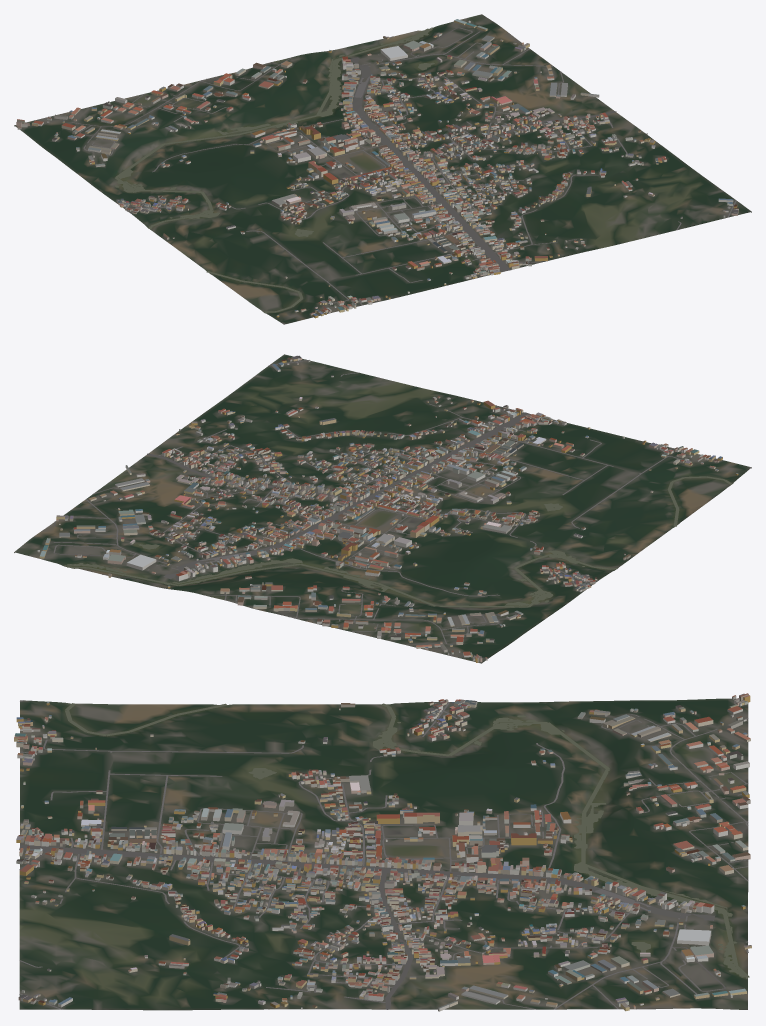
The picture shows the model from 3 angles, top to bottom: view 1: azimuth 30°, elevation 25°; view 2: azimuth 150°, elevation 25°; view 3: azimuth 270°, elevation 25°; orthographic projection. The views are drawn at different scales.
Parts seen in each view (by area): view 1: ground, buildings, roads, water; view 2: ground, buildings, roads, water; view 3: ground, buildings, roads, water.
Boxes of the visible parts, x1,y1,x2,y2 form: ground: (14,14,751,324); buildings: (16,19,738,318); roads: (44,27,736,324); water: (115,27,434,312); ground: (14,354,751,663); buildings: (37,355,738,662); roads: (53,360,750,656); water: (64,476,732,607); ground: (19,698,748,1010); buildings: (14,693,751,1011); roads: (19,700,748,1009); water: (65,703,749,978).
Bounding box in the file's own units: 1414 × 31.74 × 1420.
